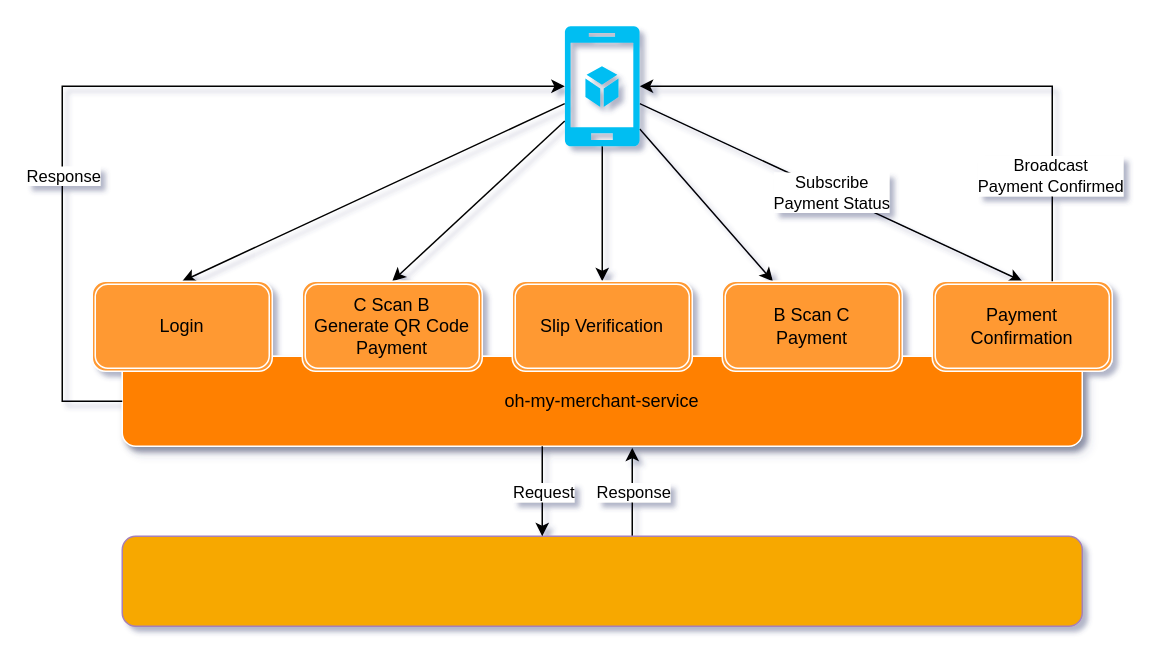
Some shapes in this 1160 by 662 pixel diagram are drawn without their labels. The shapes that lost their labels are listed below. From the top down, each one's centre as x and y in pixels, then its label:
At point 601,86: "Somjai Application".
At point 601,580: "SCB Open Banking API".
